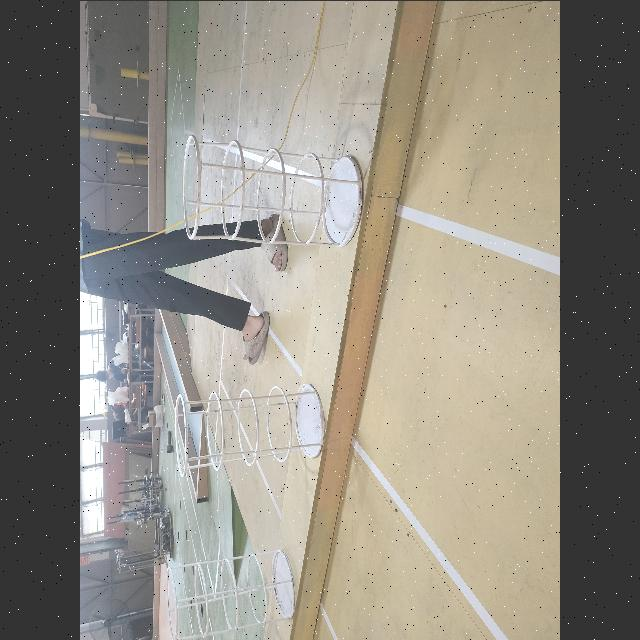S: (180, 134, 366, 250), (172, 380, 330, 478), (164, 546, 298, 640)
